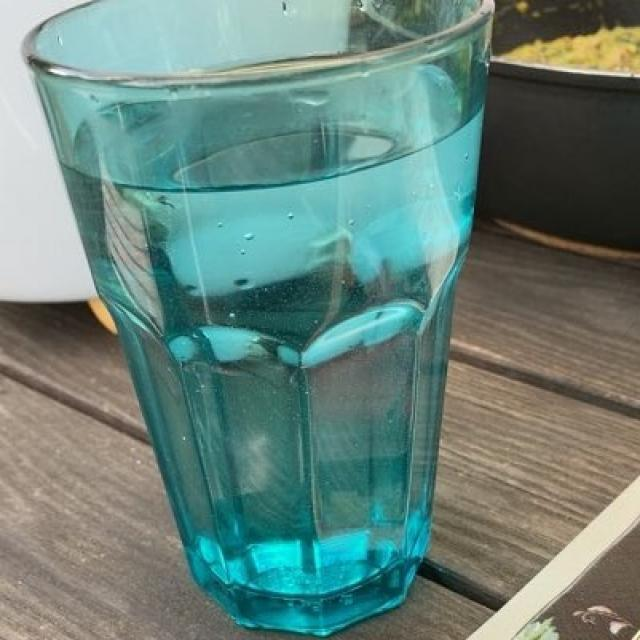water: (61, 98, 470, 601)
